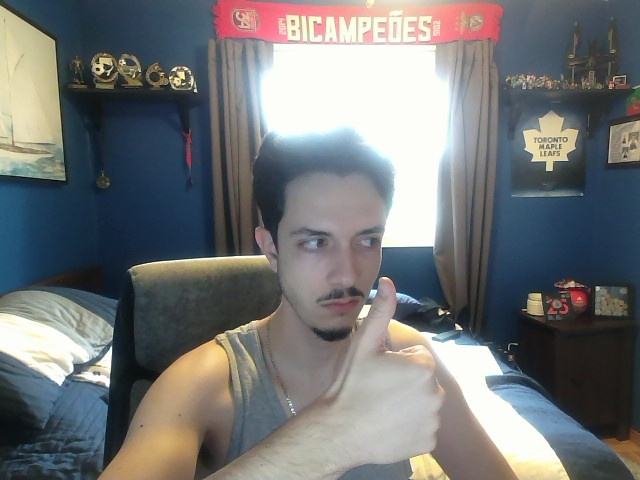ThumbsUp: (321, 277, 447, 464)
